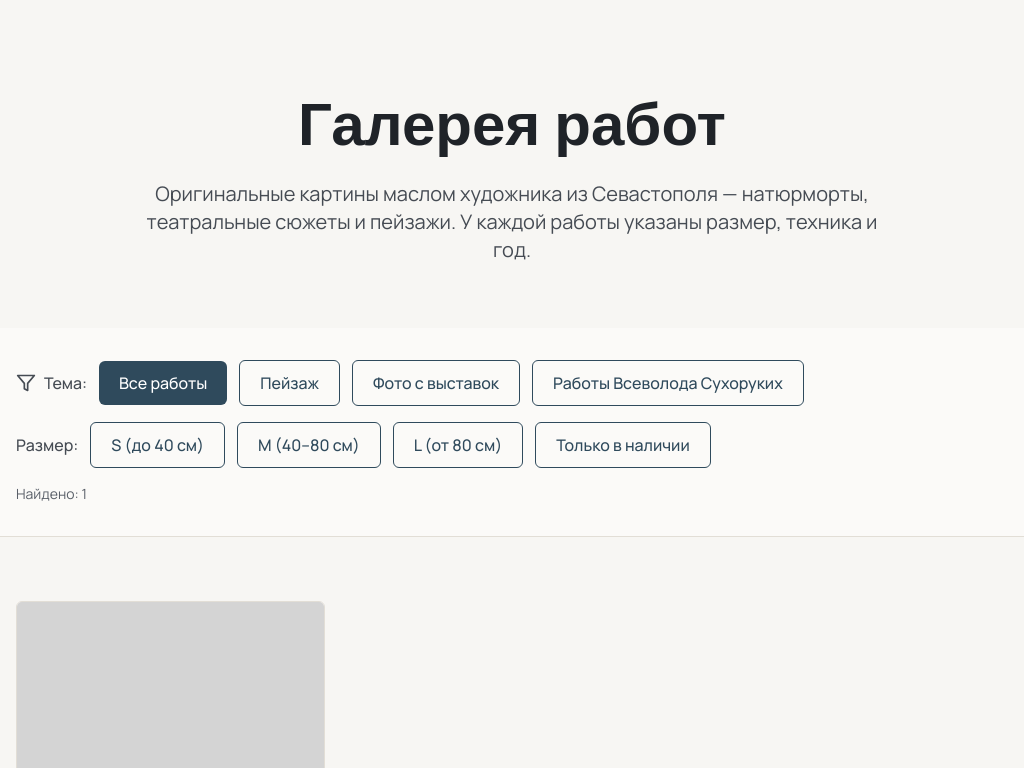
Test: catalogue filters (011 S5) › @US5-FE2 no results message appears when filters exclude everything - degradation
This screenshot has width=1024, height=768.
Click the button "S (до 40 см)" at coordinates (158, 445), box [90,422,225,468]
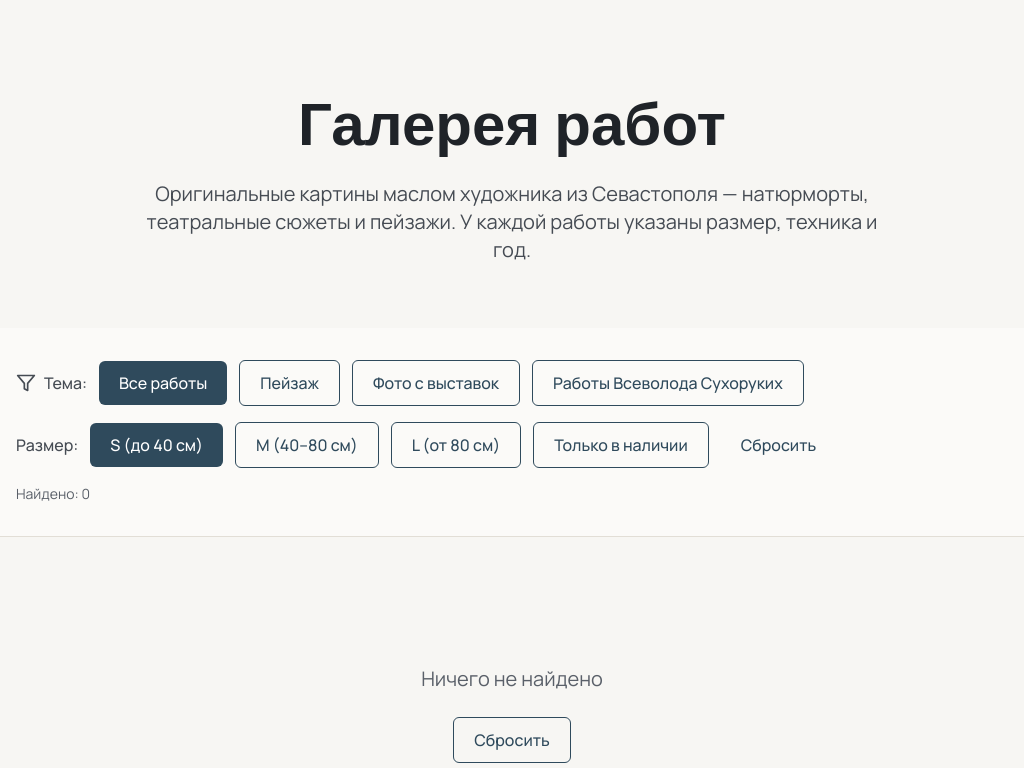
Expected: the text "Ничего не найдено" is shown, [421,665,603,692]
Expected: the text with test id "gallery-count" reads "Найдено: 0", [16,484,90,503]
